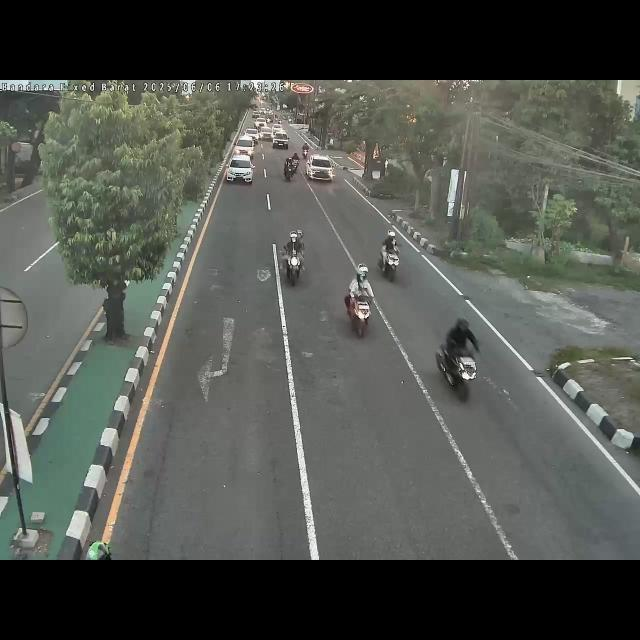Motor: (434, 314, 482, 408), (342, 260, 380, 344), (378, 226, 406, 286), (282, 228, 308, 288)
